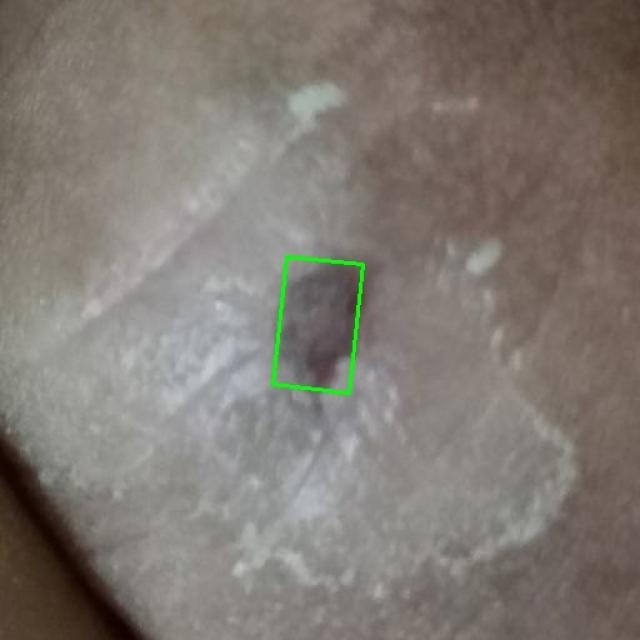Tinea Corporis: (273, 256, 363, 393)
